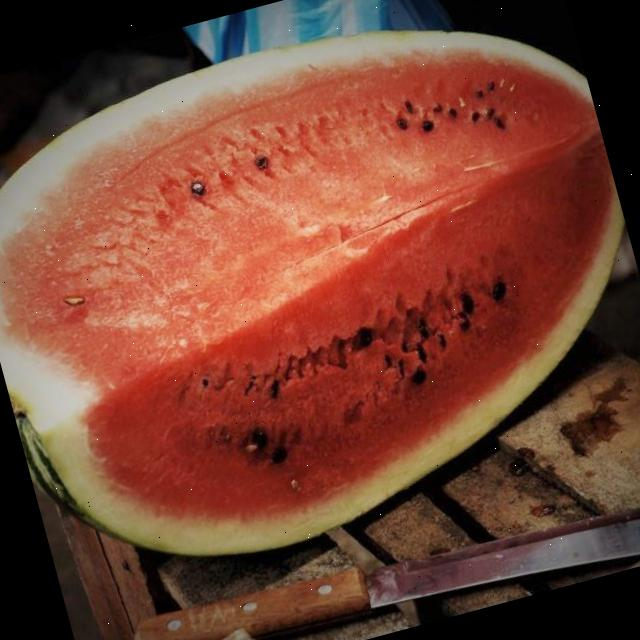watermelon: (0, 2, 640, 560)
